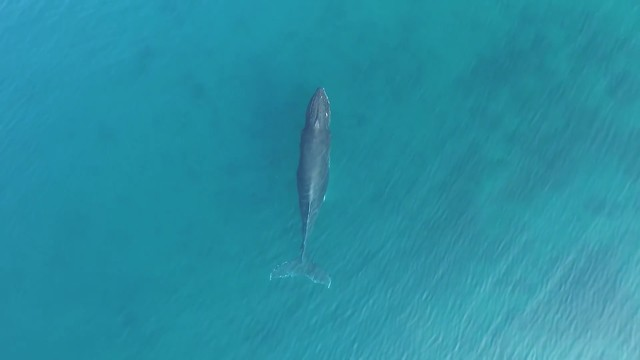whale: (265, 79, 359, 295)
